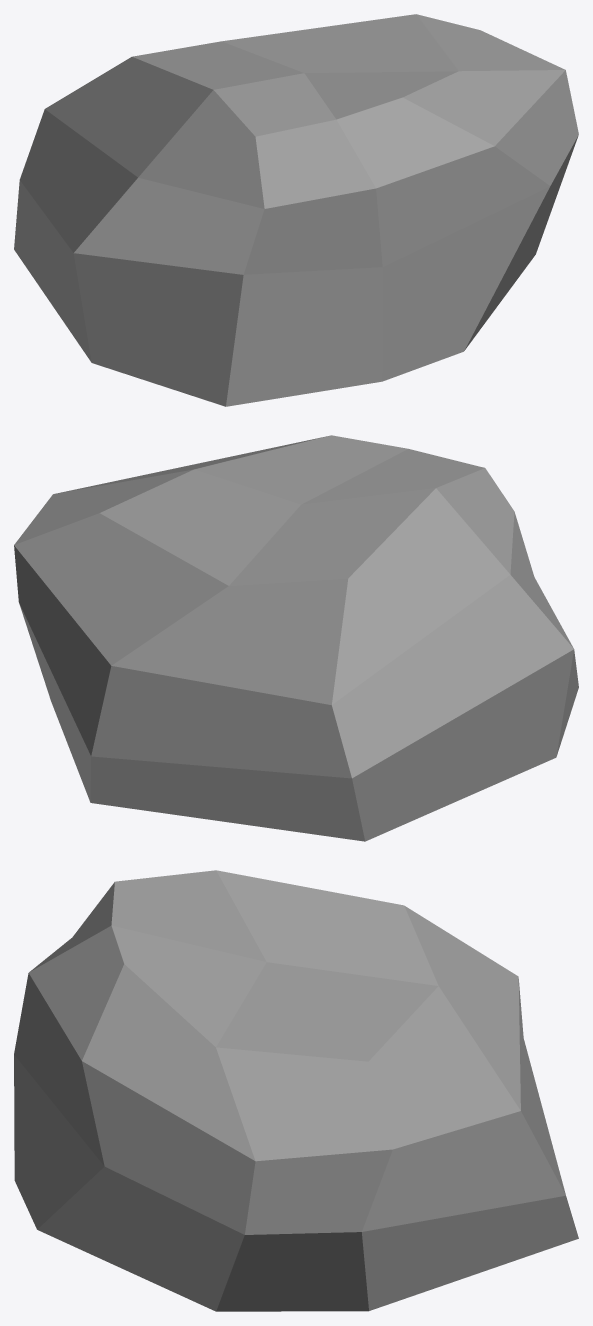
Rendered from rock02__mesh_LOD.fbx.
The picture shows the model from 3 angles, top to bottom: view 1: azimuth 30°, elevation 25°; view 2: azimuth 150°, elevation 25°; view 3: azimuth 270°, elevation 25°; orthographic projection. The views are drawn at different scales.
Visible parts, largest first — view 1: rock02__mesh_LOD0; view 2: rock02__mesh_LOD0; view 3: rock02__mesh_LOD0.
Part boxes in pixels (x1,y1,x2,y2): rock02__mesh_LOD0: (14, 14, 578, 406); rock02__mesh_LOD0: (14, 435, 578, 841); rock02__mesh_LOD0: (14, 870, 578, 1311).
Size of what is drawn, in the model's own units: 565 by 254 by 484.
1 material, 1 textured.
